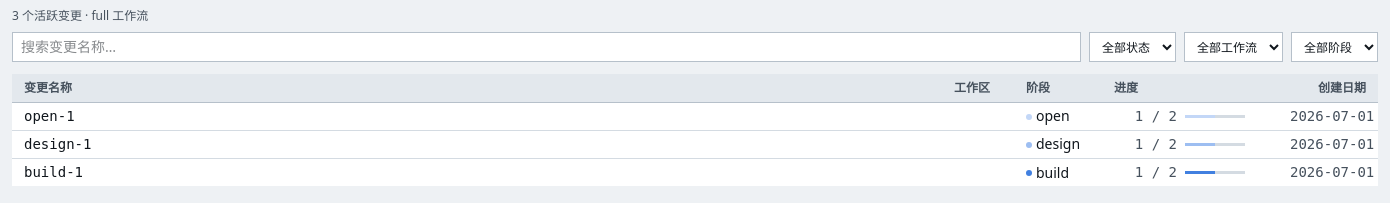
Scenario: ChangeExplorer › filters by phase using the phase select
Select "design" in the dropdown named "阶段": x=1334, y=47 x1=1291 y1=32 x2=1378 y2=62
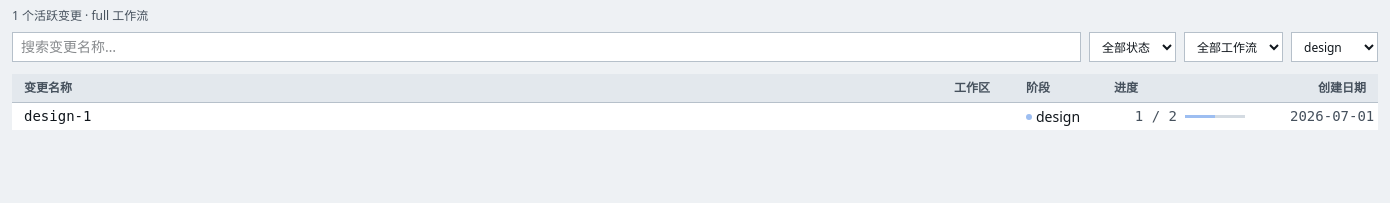
Expected: the text "design-1" is shown, x1=12 y1=102 x2=942 y2=130
Now the button "open-1" is gone
Now the button "build-1" is gone
